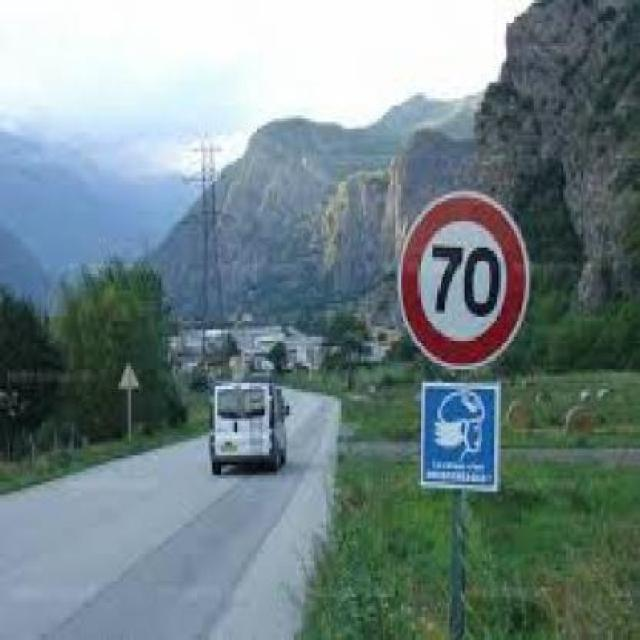forb_speed_over_70: (398, 193, 529, 370)
